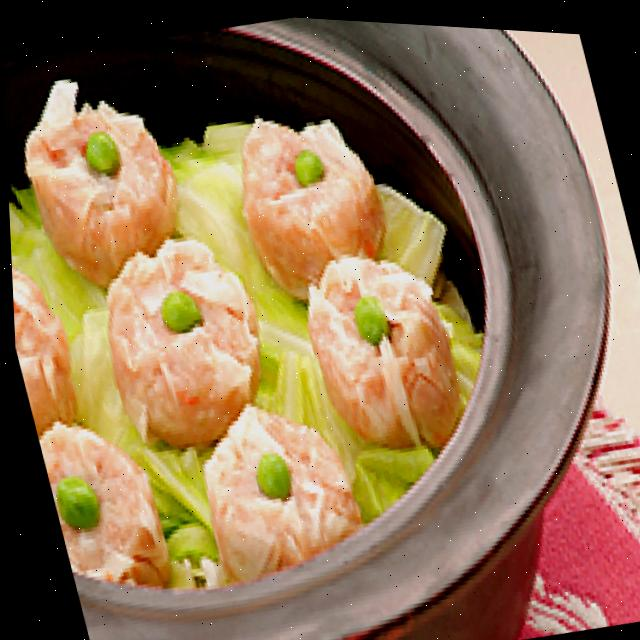带馅早点: (0, 0, 501, 622)
